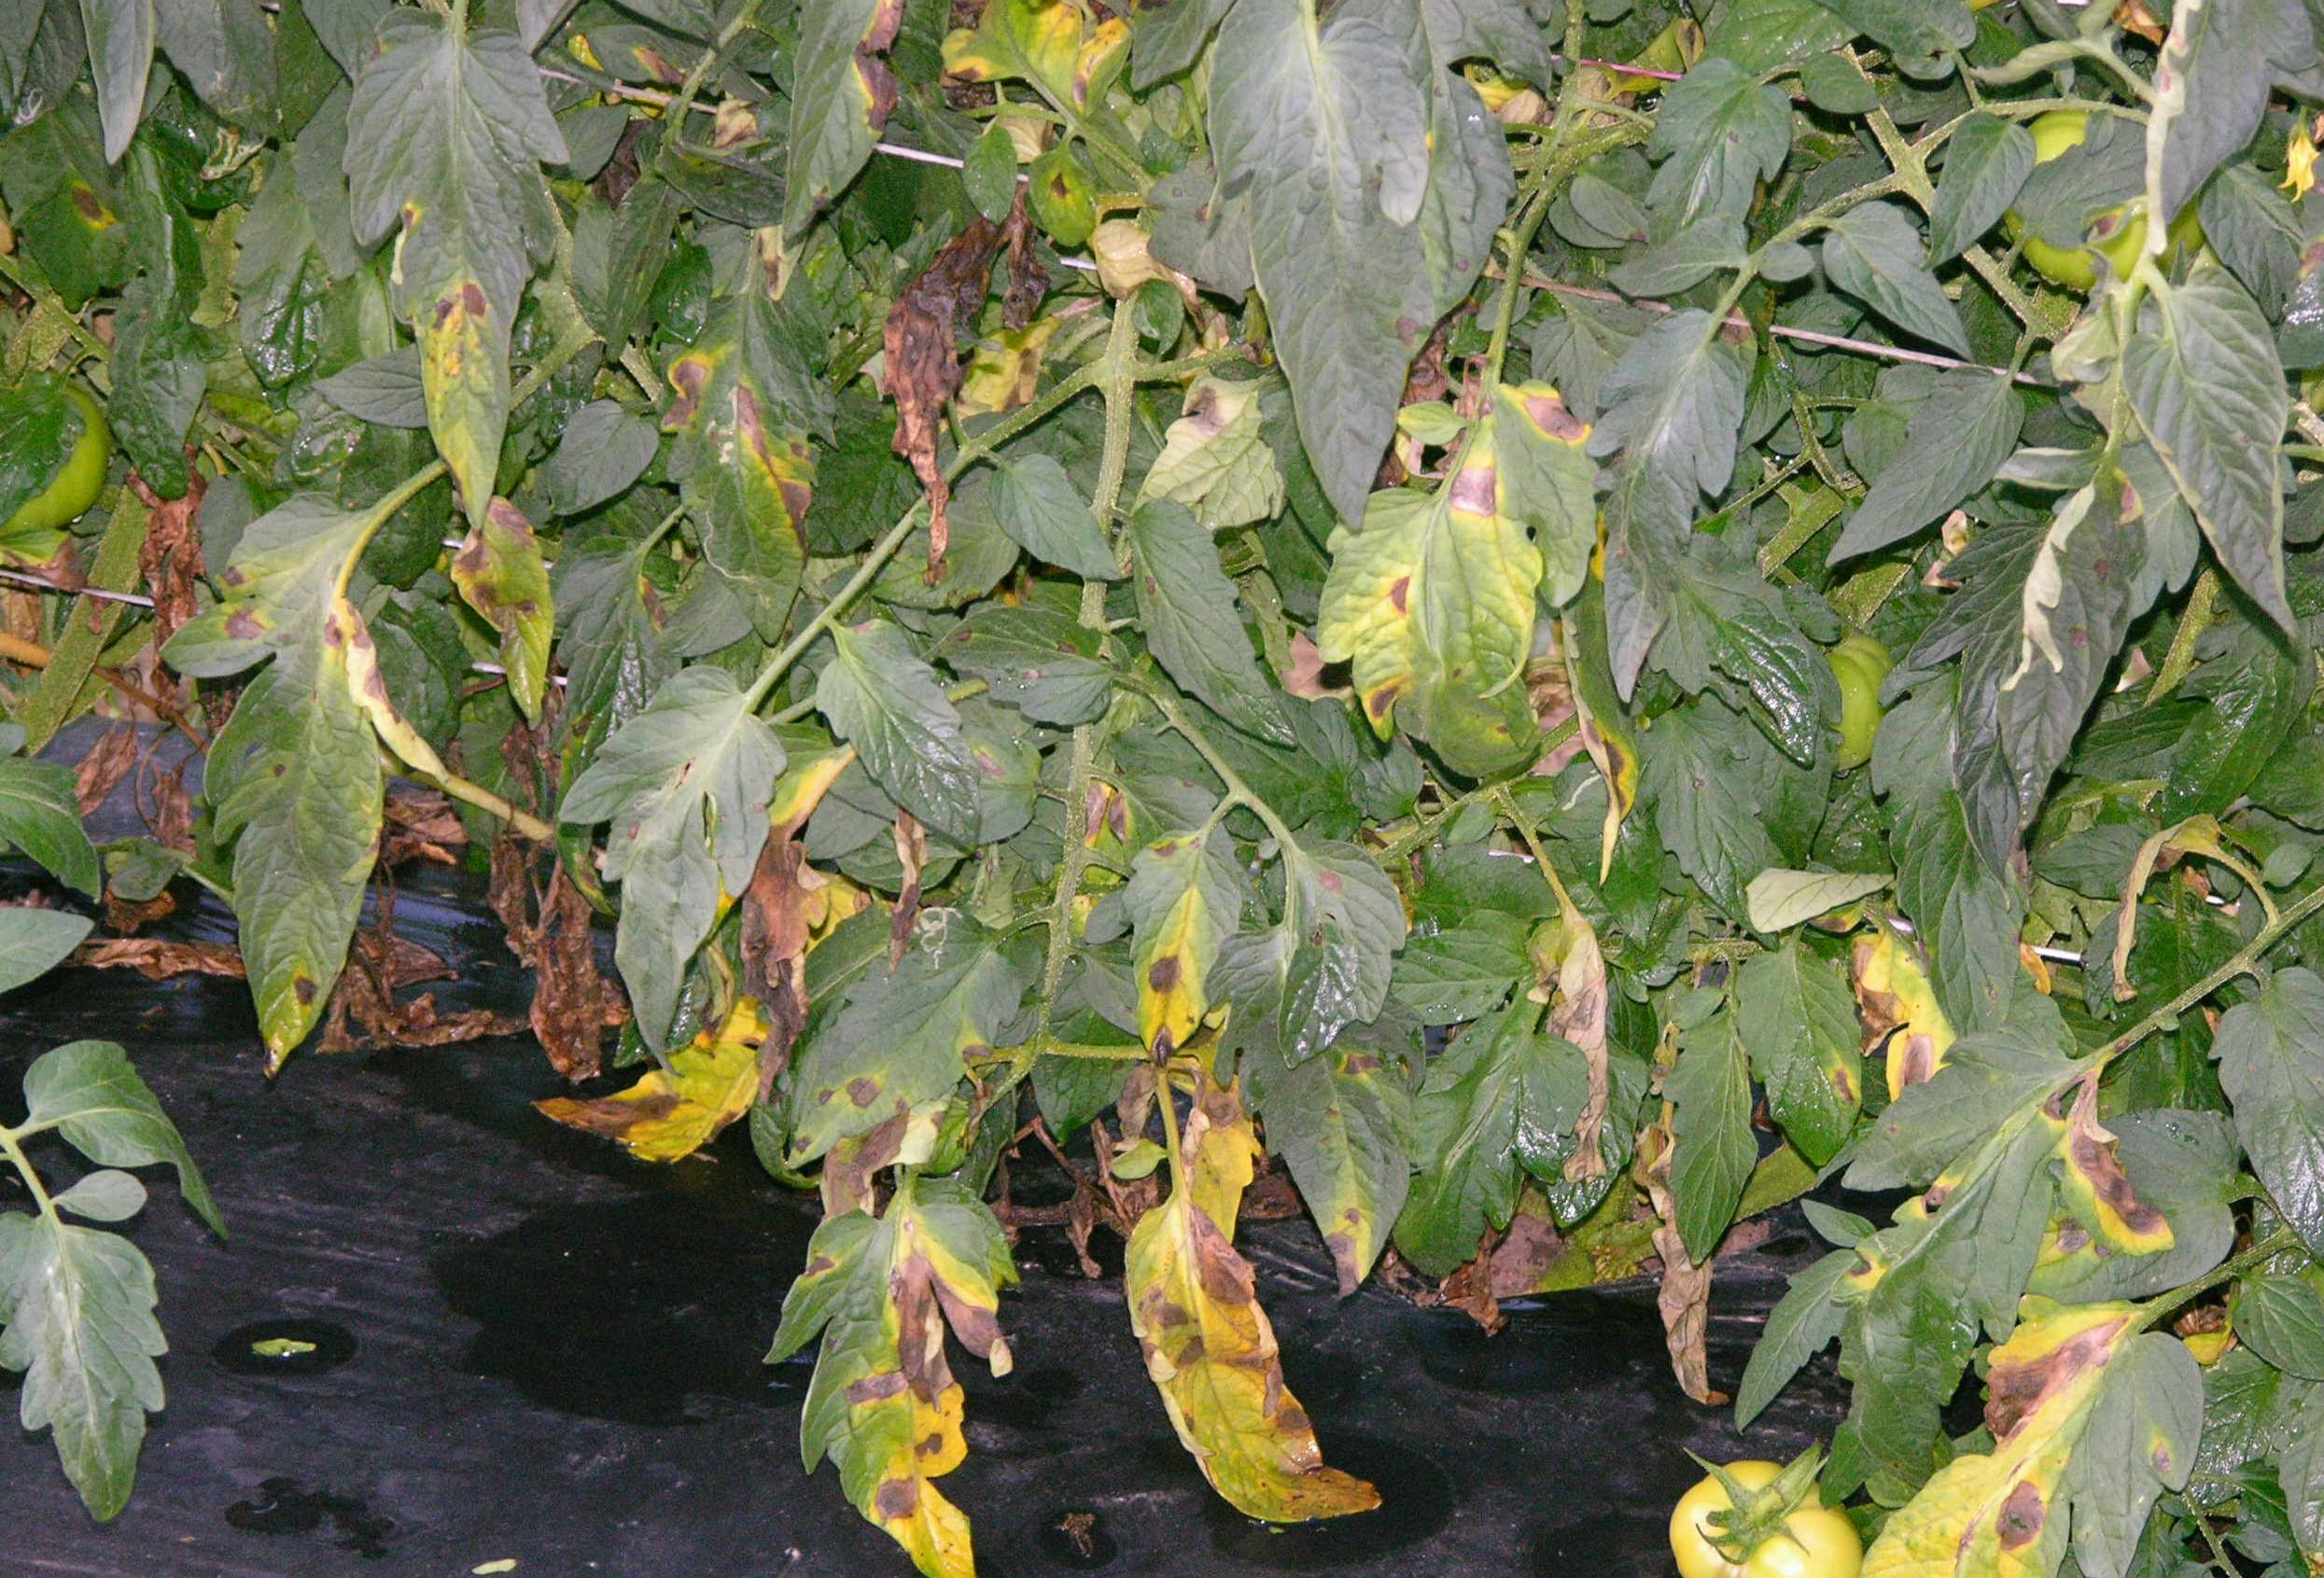Tomato Early blight leaf: (174, 442, 407, 1081), (331, 0, 606, 520), (1092, 1147, 1384, 1578), (1894, 1272, 2217, 1578), (798, 1183, 1026, 1578), (673, 236, 850, 645), (1313, 502, 1558, 761), (940, 11, 1162, 232), (1713, 932, 1886, 1210), (1134, 800, 1250, 1067), (435, 493, 570, 706)
Tomato leaf: (0, 1198, 194, 1520), (2136, 268, 2294, 623), (1107, 504, 1303, 757), (1597, 317, 1713, 722), (812, 613, 993, 863), (2211, 970, 2324, 1277), (1831, 377, 2002, 564), (1812, 215, 1991, 370)
